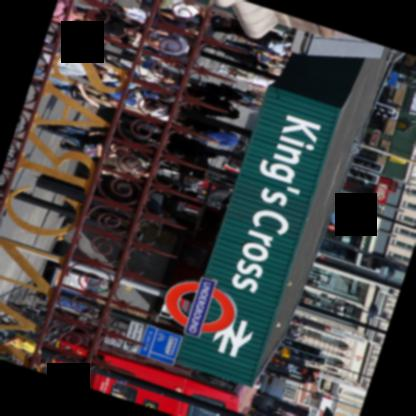backpack: (0, 354, 16, 364)
handbag: (80, 143, 117, 158)
